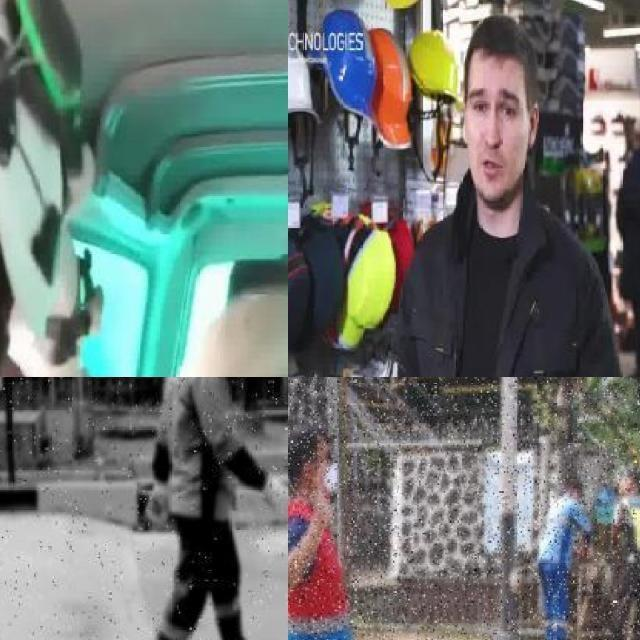apron: (138, 474, 172, 530), (258, 472, 288, 523)
